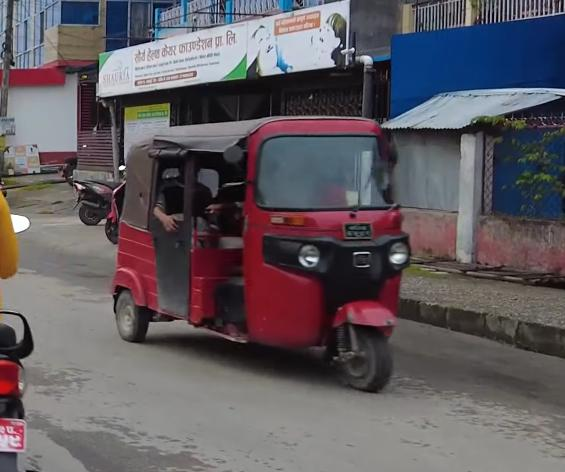auto_rickshaw: (106, 109, 414, 399)
